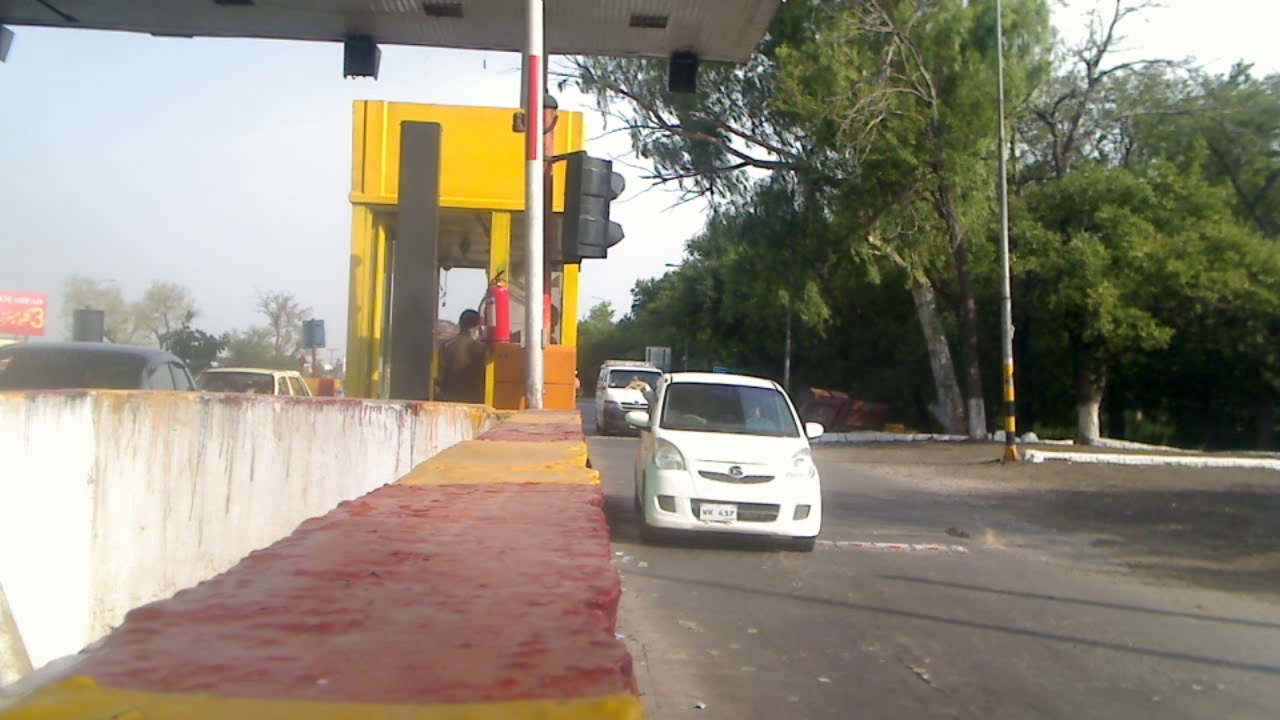Number Plate (Car): (701, 503, 736, 519)
